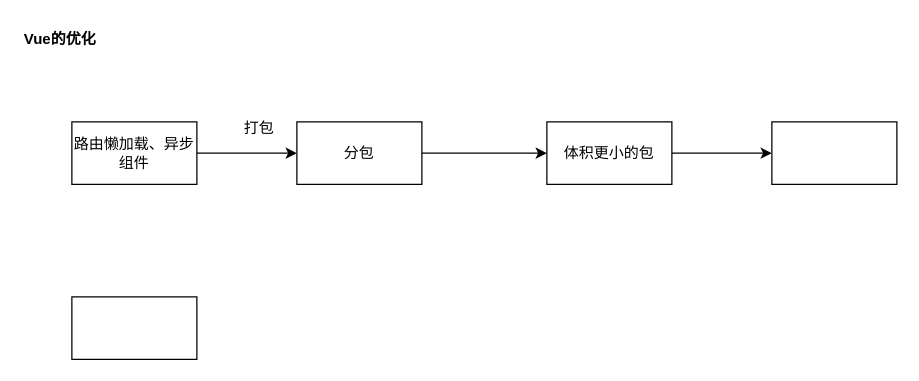
This 919x381 diagram has some shape labels left out. Each missing label, with the centre of its shape:
keep-alive: the point at 134,327
按需加载: the point at 834,152
